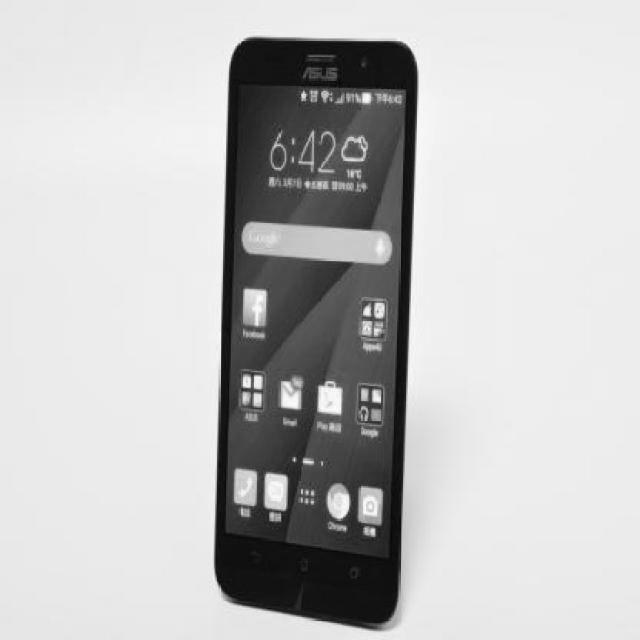fake: (228, 29, 404, 626)
